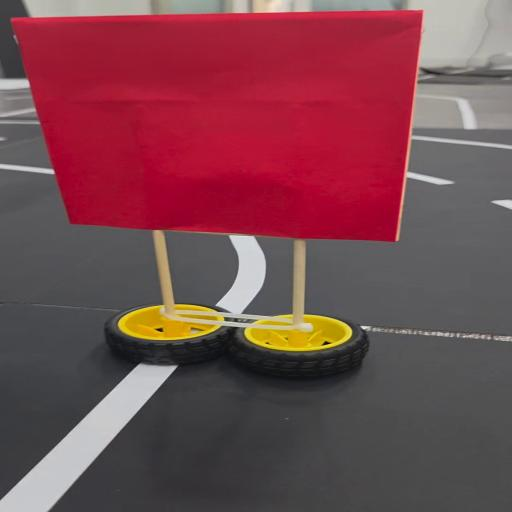Sign_A: (10, 8, 446, 385)
